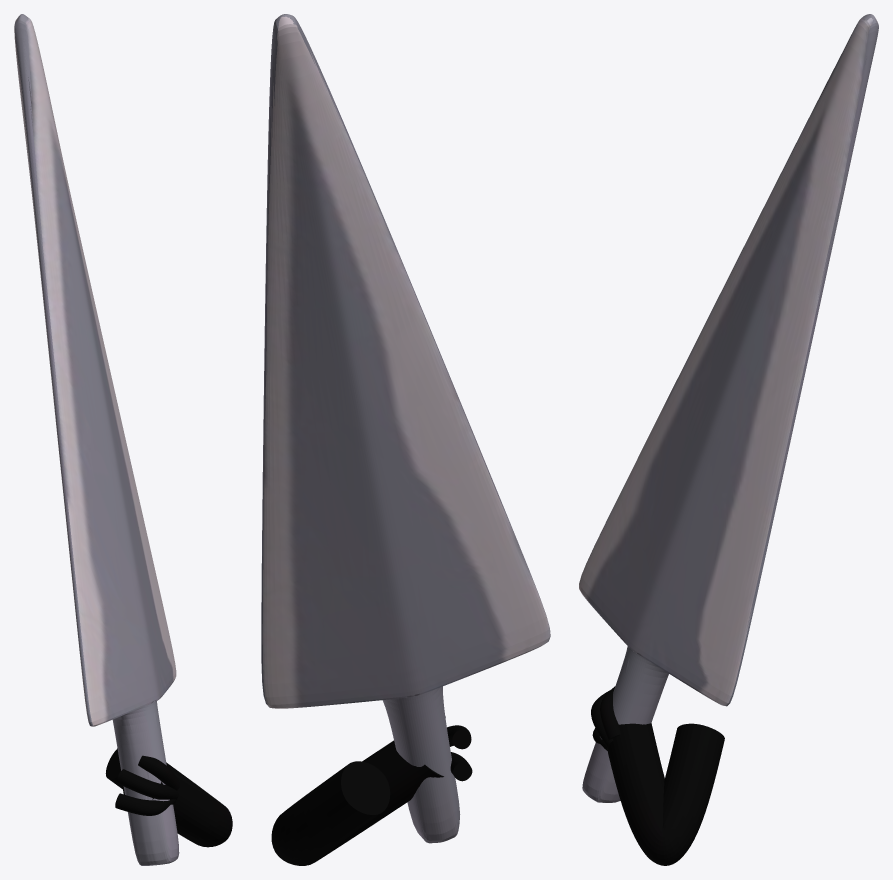
Rendered from WatcherKnightLeftArm.obj.
The picture shows the model from 3 angles, left to right: view 1: azimuth 30°, elevation 25°; view 2: azimuth 150°, elevation 25°; view 3: azimuth 270°, elevation 25°; orthographic projection. The views are drawn at different scales.
Parts seen in each view (by area): view 1: Watcher_Knights.004; view 2: Watcher_Knights.004; view 3: Watcher_Knights.004.
Part boxes in pixels (left/top/right/bottom): Watcher_Knights.004: left=14, top=14, right=232, bottom=865; Watcher_Knights.004: left=261, top=14, right=550, bottom=865; Watcher_Knights.004: left=579, top=14, right=878, bottom=865.
Bounding box in the file's own units: 4.53 × 18.51 × 6.25.
